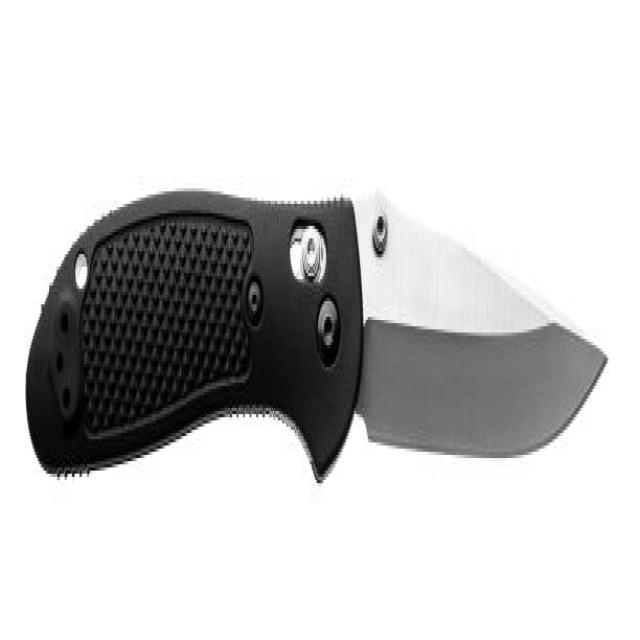knife: (20, 144, 611, 539)
